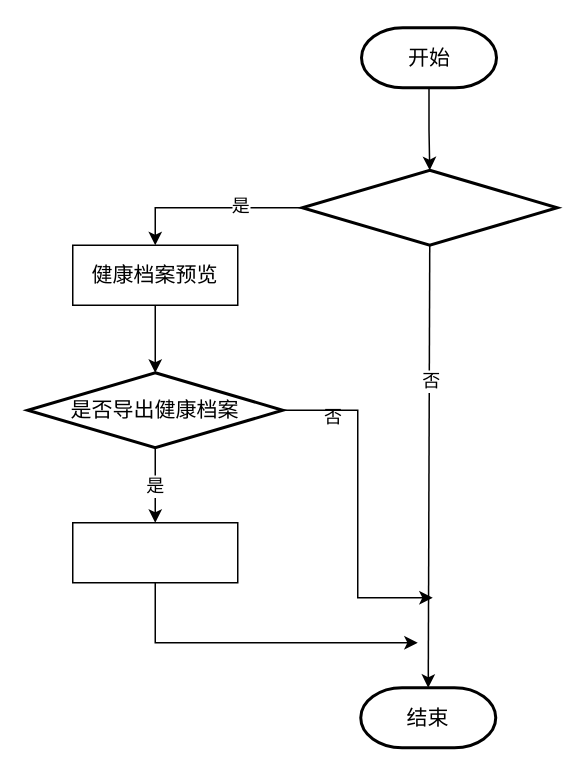
The diagram is 584 pixels wide and 774 high, and some of its shapes have lost their labels. The shapes that lost their labels are listed below. From the top down, each one's box as (x1, y1, x2, y2) in pixels, then its label:
(300, 168, 558, 246): 是否进行健康档案预览
(71, 521, 238, 583): 导出健康档案
